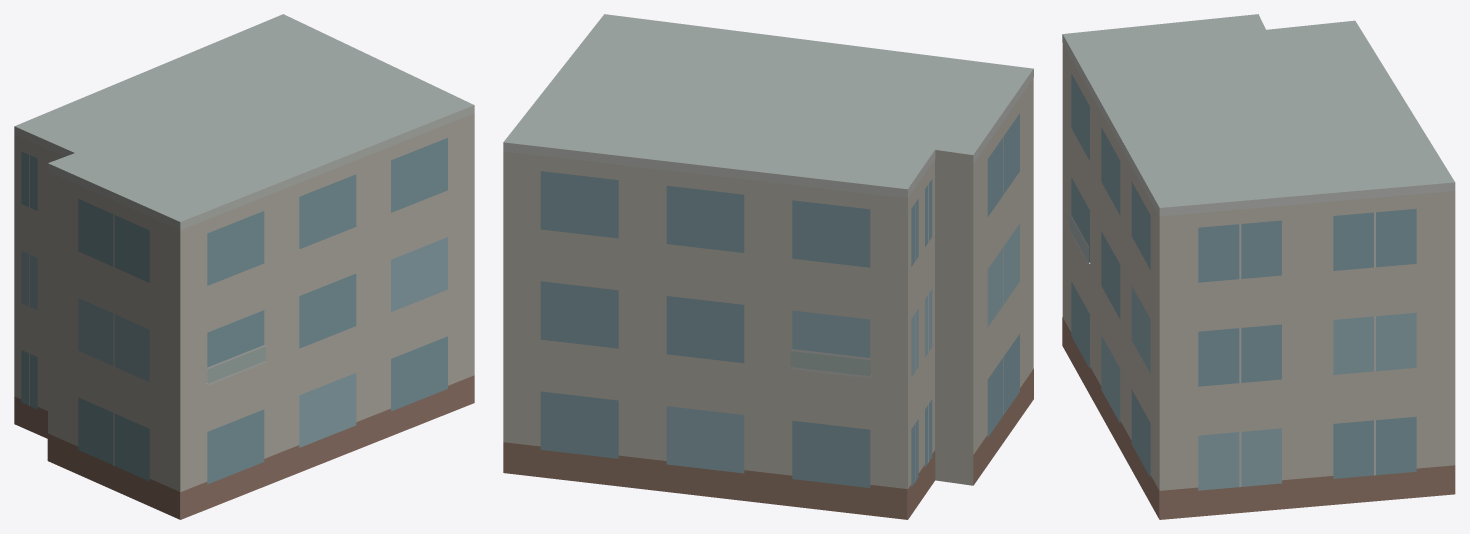
Rendered from survey-upis-32680568.glb.
3 renders of one model, left to right at view 1: azimuth 30°, elevation 25°; view 2: azimuth 150°, elevation 25°; view 3: azimuth 270°, elevation 25°, orthographic. The views are drawn at different scales.
Visible parts, largest first — view 1: survey-upis-32680568.tmp; view 2: survey-upis-32680568.tmp; view 3: survey-upis-32680568.tmp.
Part boxes in pixels (x1,y1,x2,y2): survey-upis-32680568.tmp: (14,14,474,519); survey-upis-32680568.tmp: (503,14,1033,519); survey-upis-32680568.tmp: (1062,14,1455,519).
Bounding box in the file's own units: 12.01 × 9 × 10.28.
